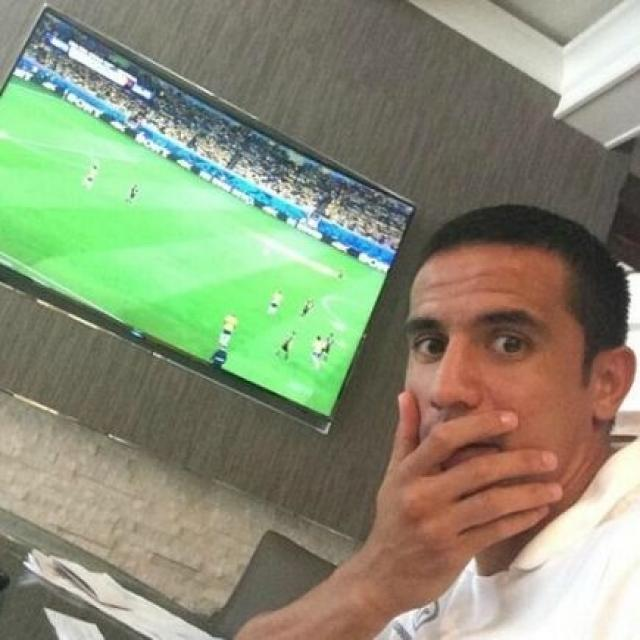nomask: (403, 251, 586, 502)
